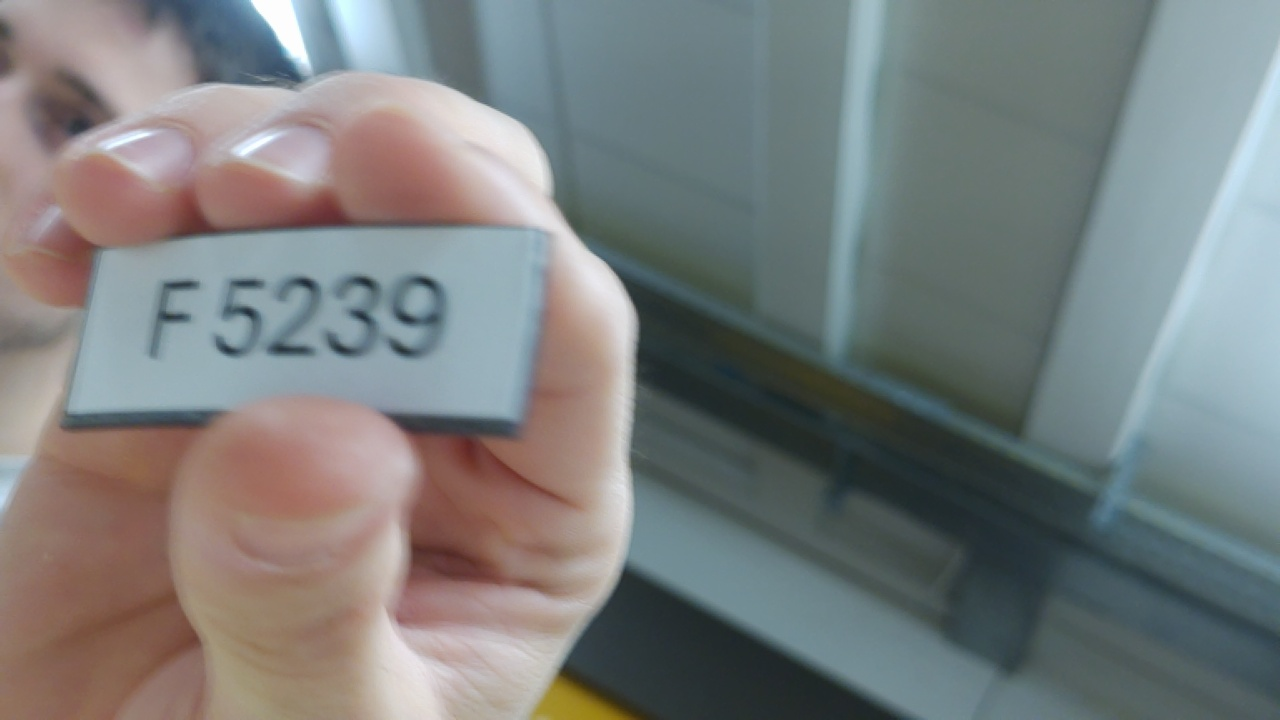license_plate: (43, 200, 566, 447)
